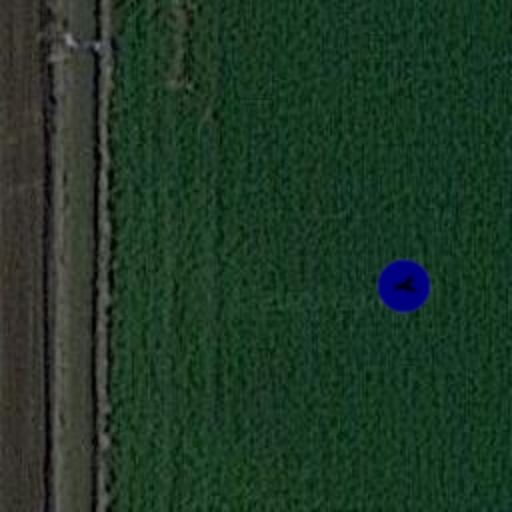circle: (372, 254, 436, 318)
